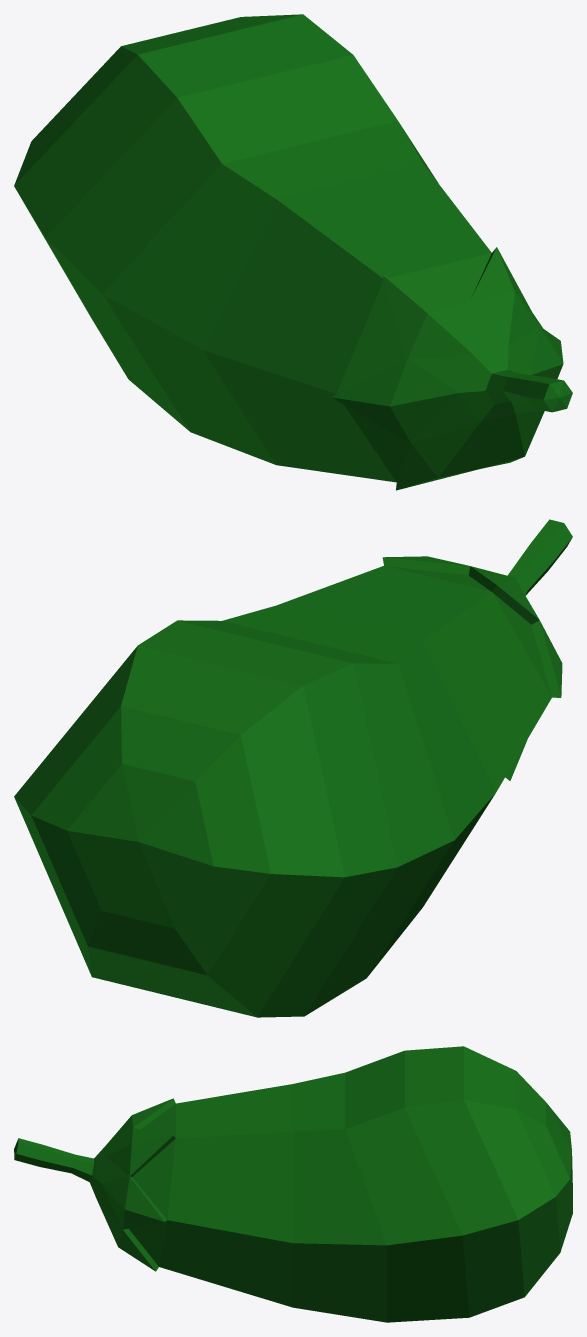
The model's file is Eggplant--6n0KjSnXrRT.fbx.
The picture shows the model from 3 angles, top to bottom: view 1: azimuth 30°, elevation 25°; view 2: azimuth 150°, elevation 25°; view 3: azimuth 270°, elevation 25°; orthographic projection. The views are drawn at different scales.
Visible parts, largest first — view 1: pasted__pCylinder1 group; view 2: pasted__pCylinder1 group; view 3: pasted__pCylinder1 group.
Boxes of the visible parts, x1,y1,x2,y2 form: pasted__pCylinder1 group: [14, 14, 572, 490]; pasted__pCylinder1 group: [14, 519, 572, 1017]; pasted__pCylinder1 group: [14, 1046, 572, 1322].
Size of the model in its own units: 51.68 by 46.8 by 107.
